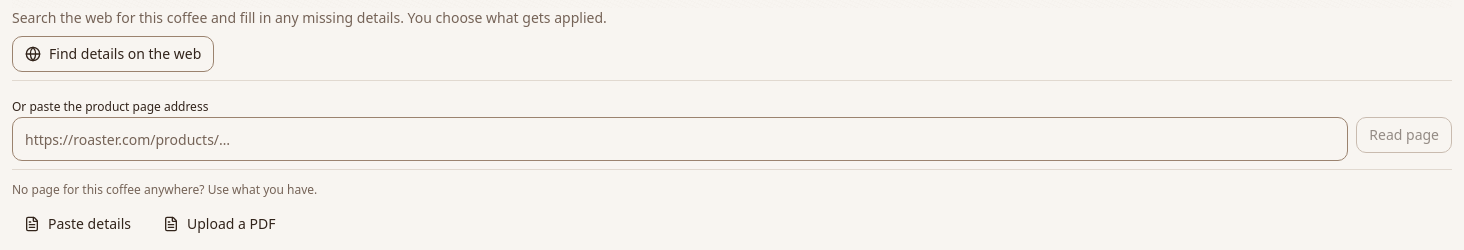
EnrichPanel manual URL › offers the paste as the way out when the search finds nothing
Click the button "Find details on the web". click: (113, 54)
box: [12,36,214,72]
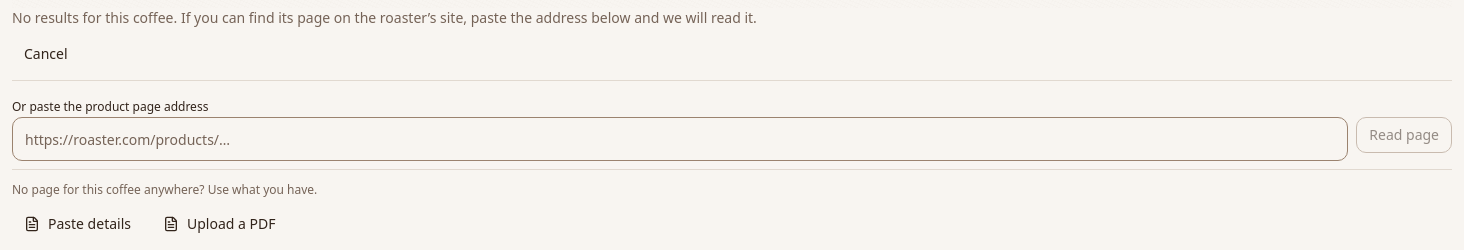
Check: the field labelled "Or paste the product page address" is shown, box [12,117,1348,161]
Check: the text "No results for this coffee" is shown, box [12,8,757,27]
